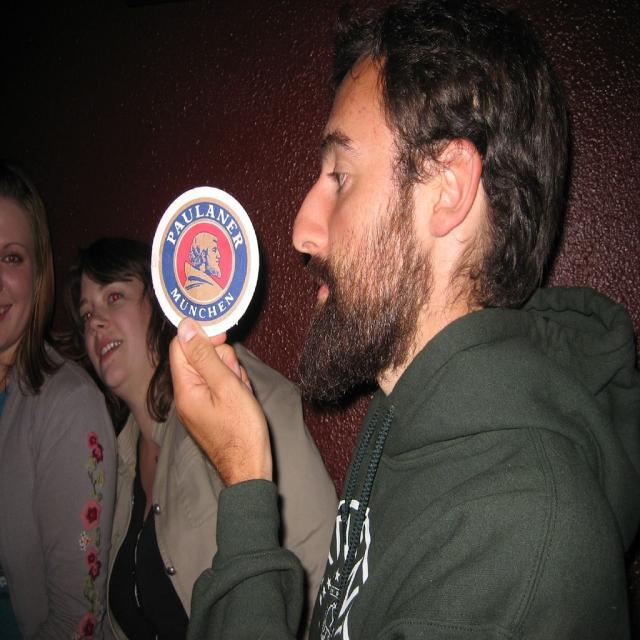paulaner: (159, 198, 252, 325)
